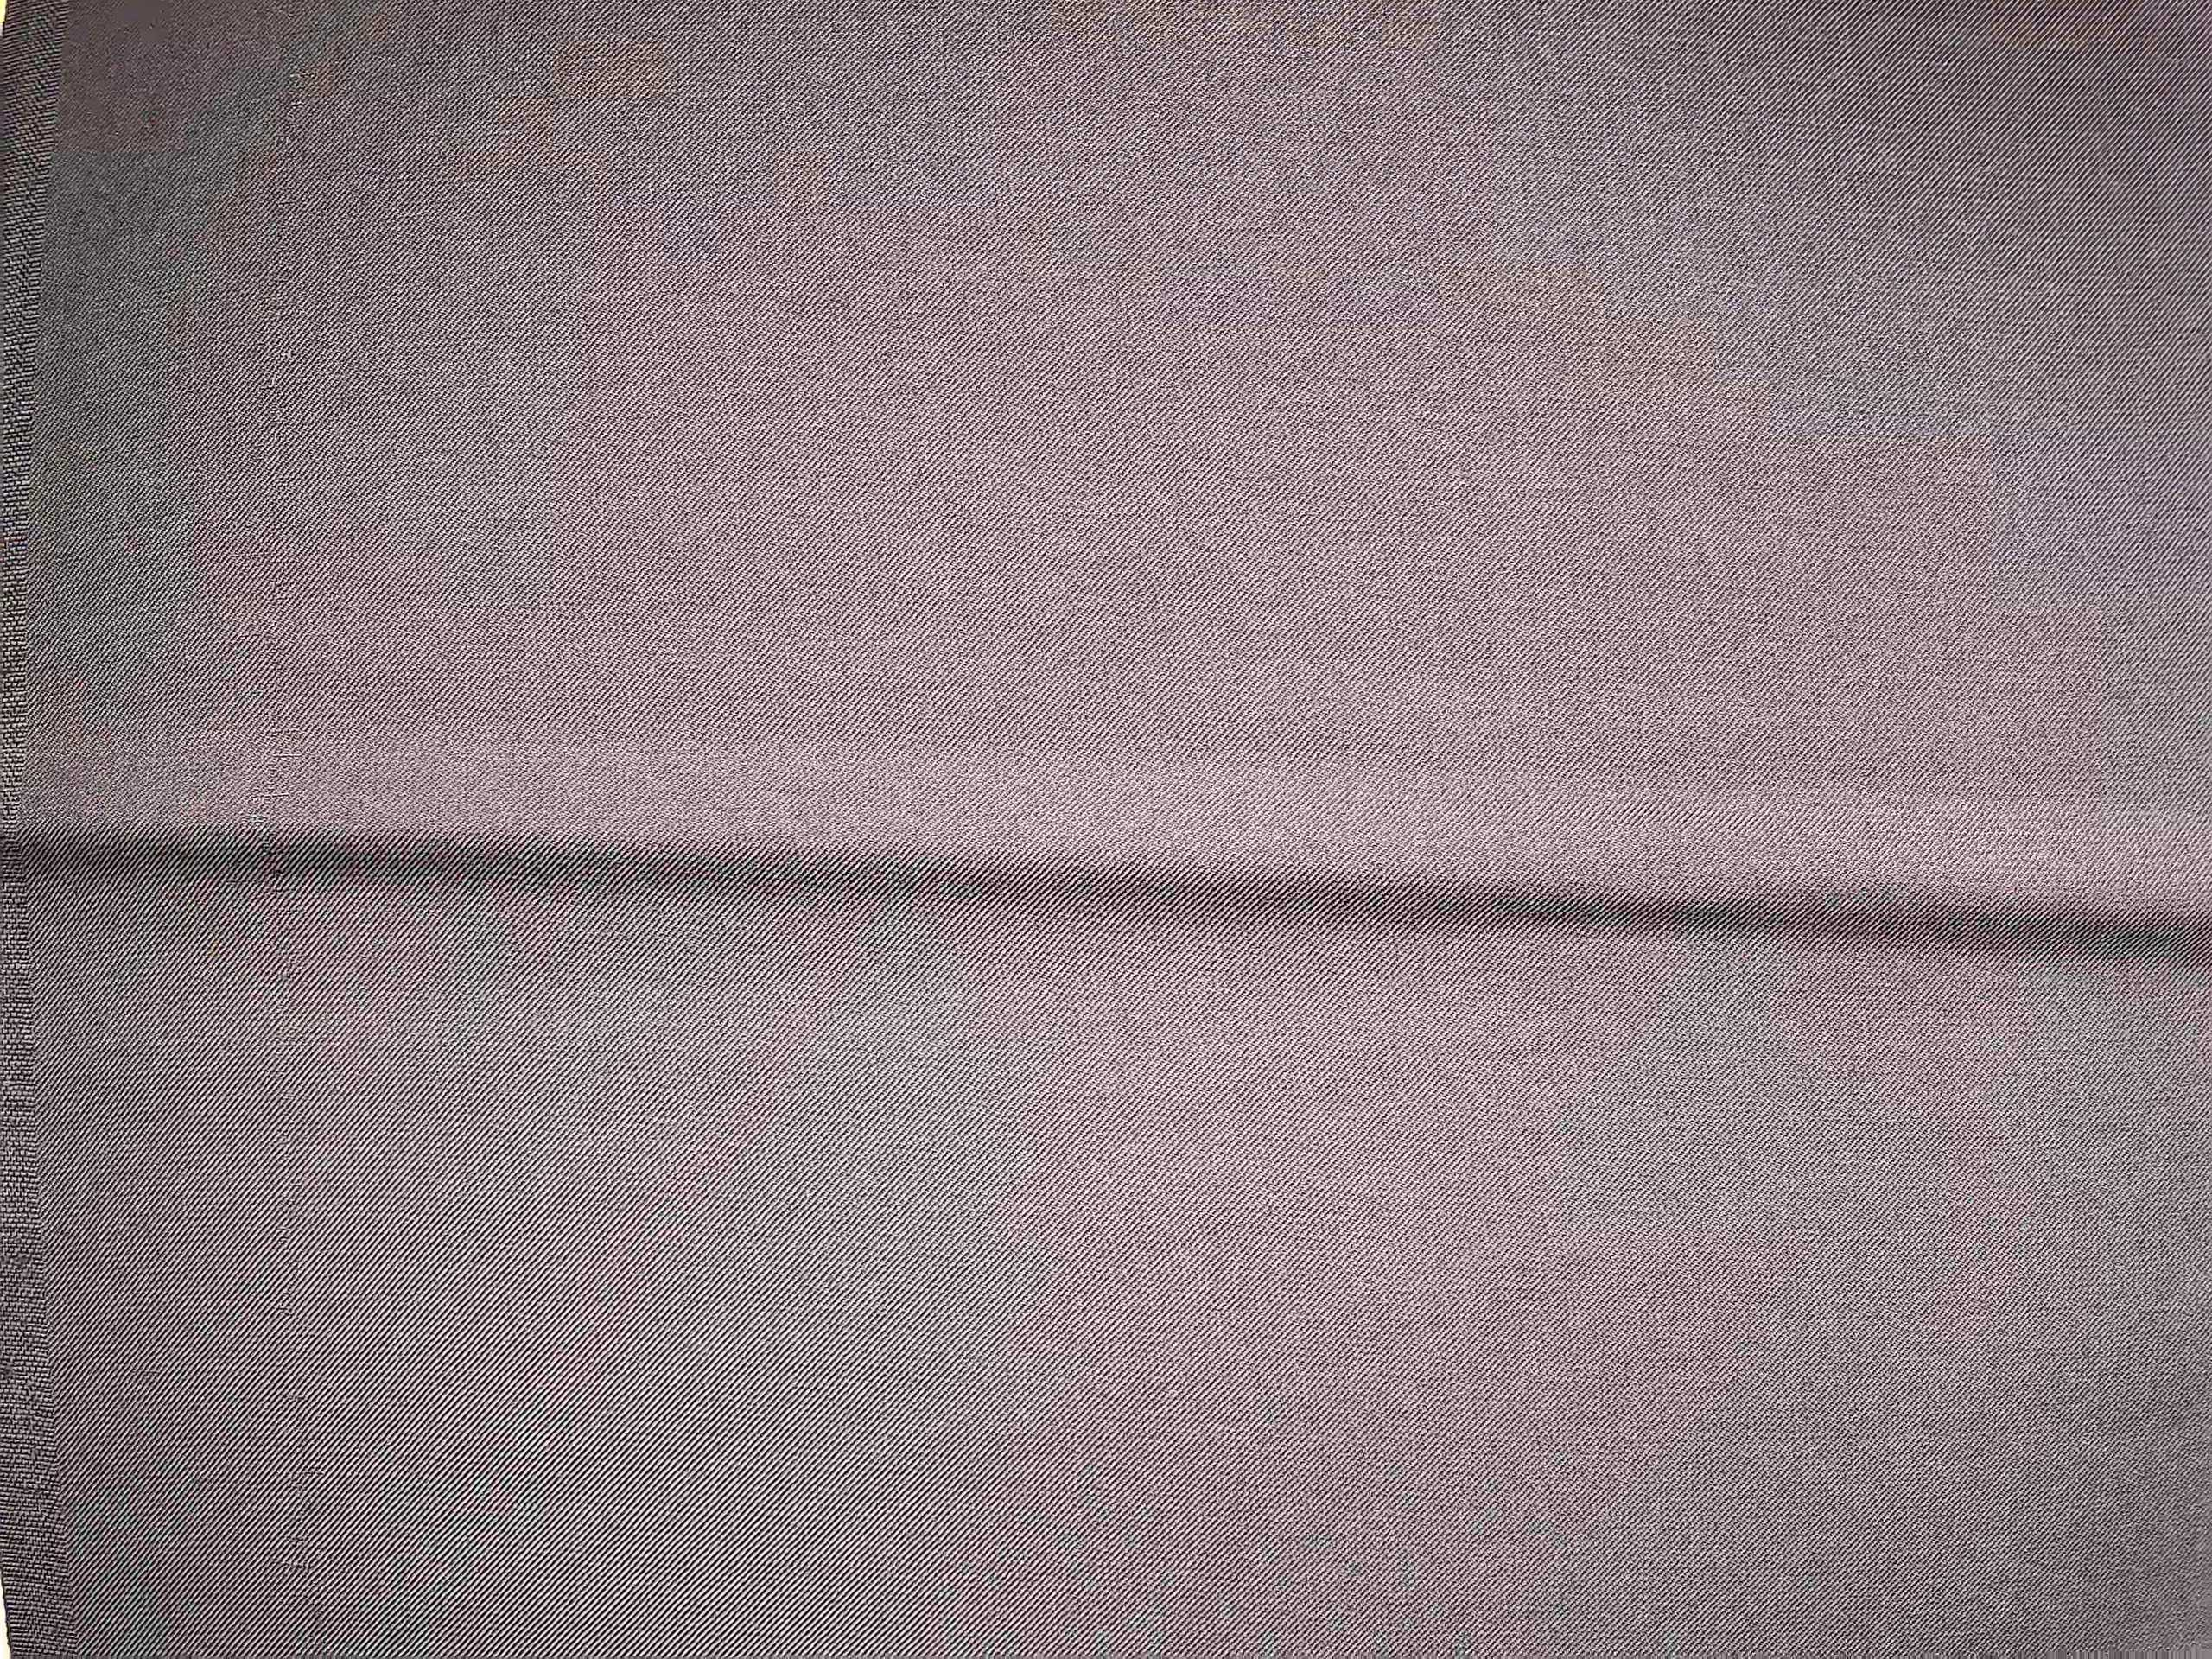jumps: (244, 24, 348, 1581)
